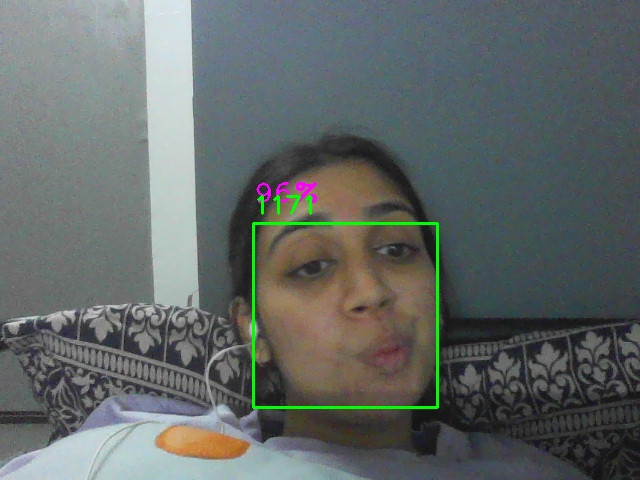real: (253, 223, 438, 408)
